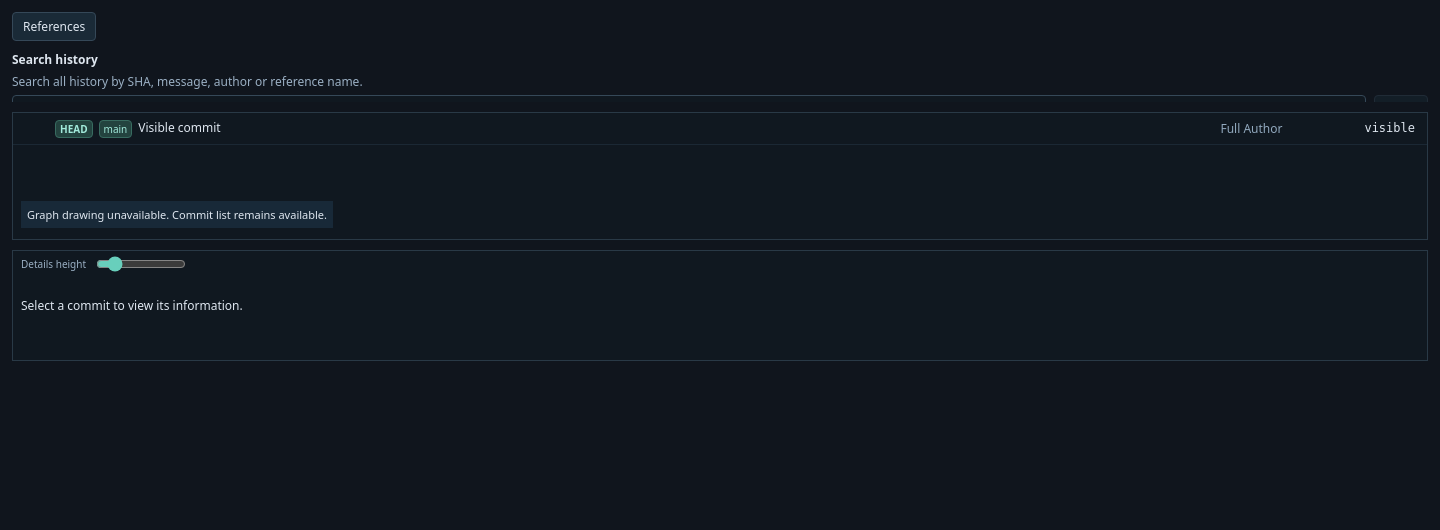
Test: T006-F01 retains stable focus after graph Solo and deferred failed request
Click the button with aria-label "Actions for refs/heads/main": (115, 129) [99,120,132,138]
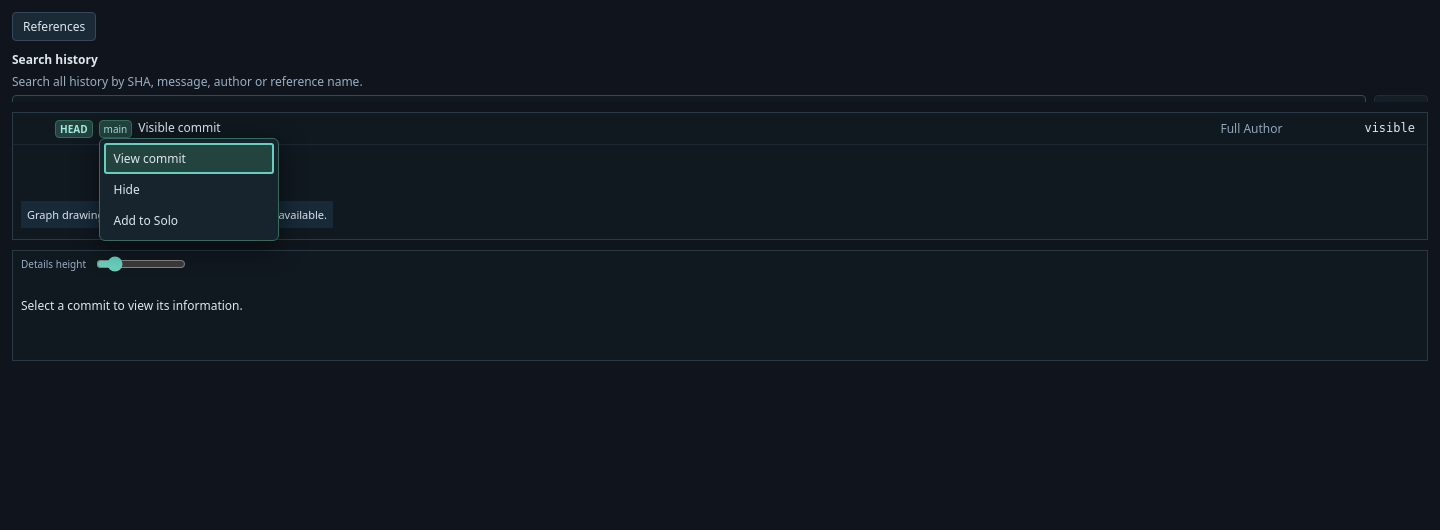
Click the menu item "Add to Solo": (189, 220) [104,205,274,236]
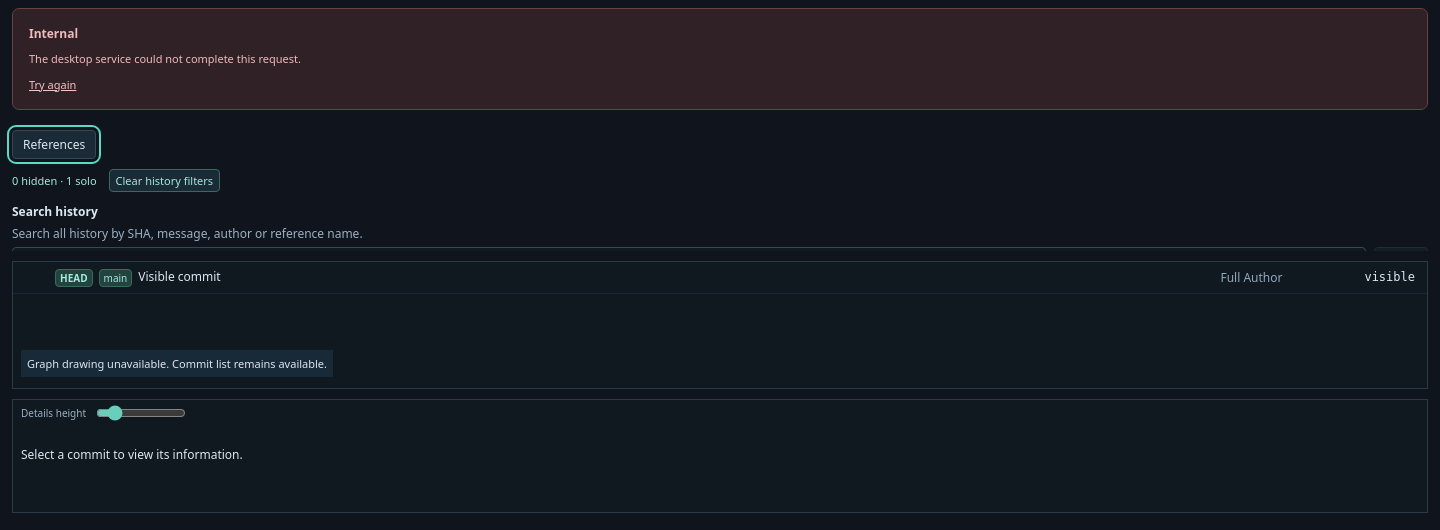
Expected: the menu is gone
Expected: the message "Internal The desktop service could not complete this request. Try again" is shown, [12,8,1428,110]
